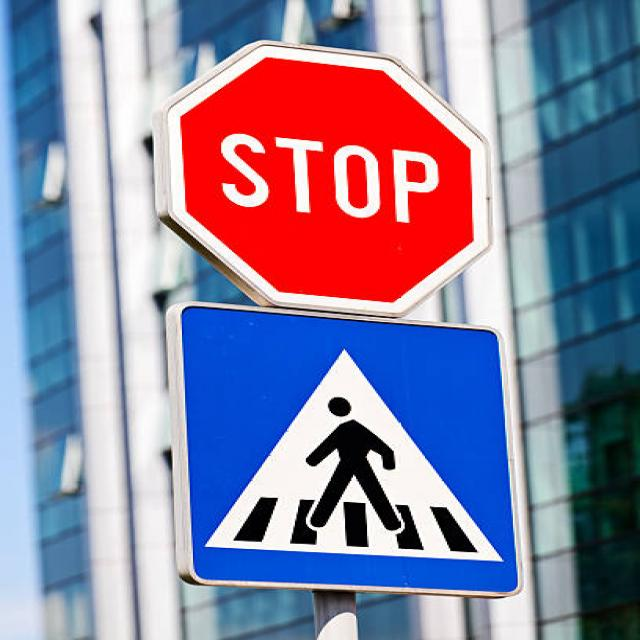crosswalk: (155, 296, 555, 605)
